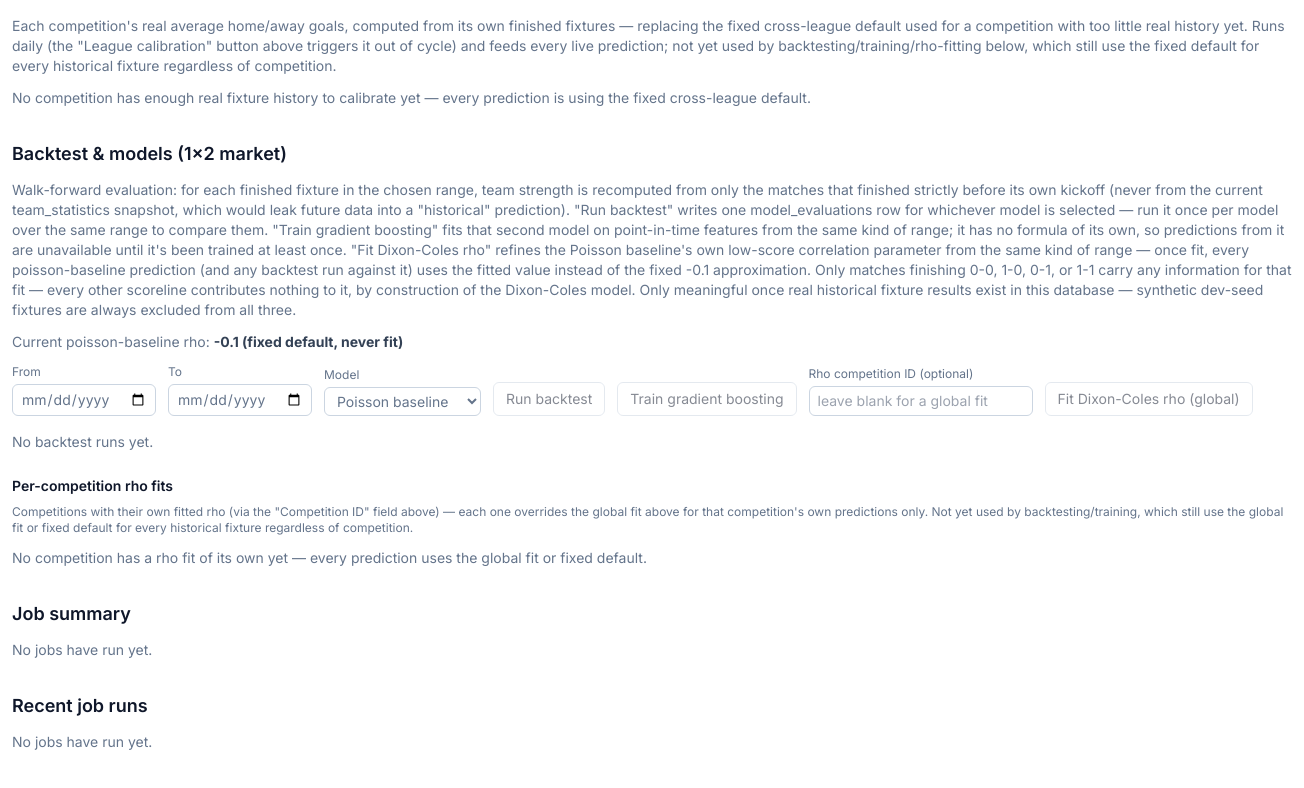
AdminDashboard › shows an error message when training fails (e.g. too few qualifying fixtures in range)
(page scrolled)
Expected: the button "Train gradient boosting" is shown, [617, 382, 796, 416]
Type "2024-01-01" into the date field labelled "From" at (84, 400), box [12, 384, 156, 416]
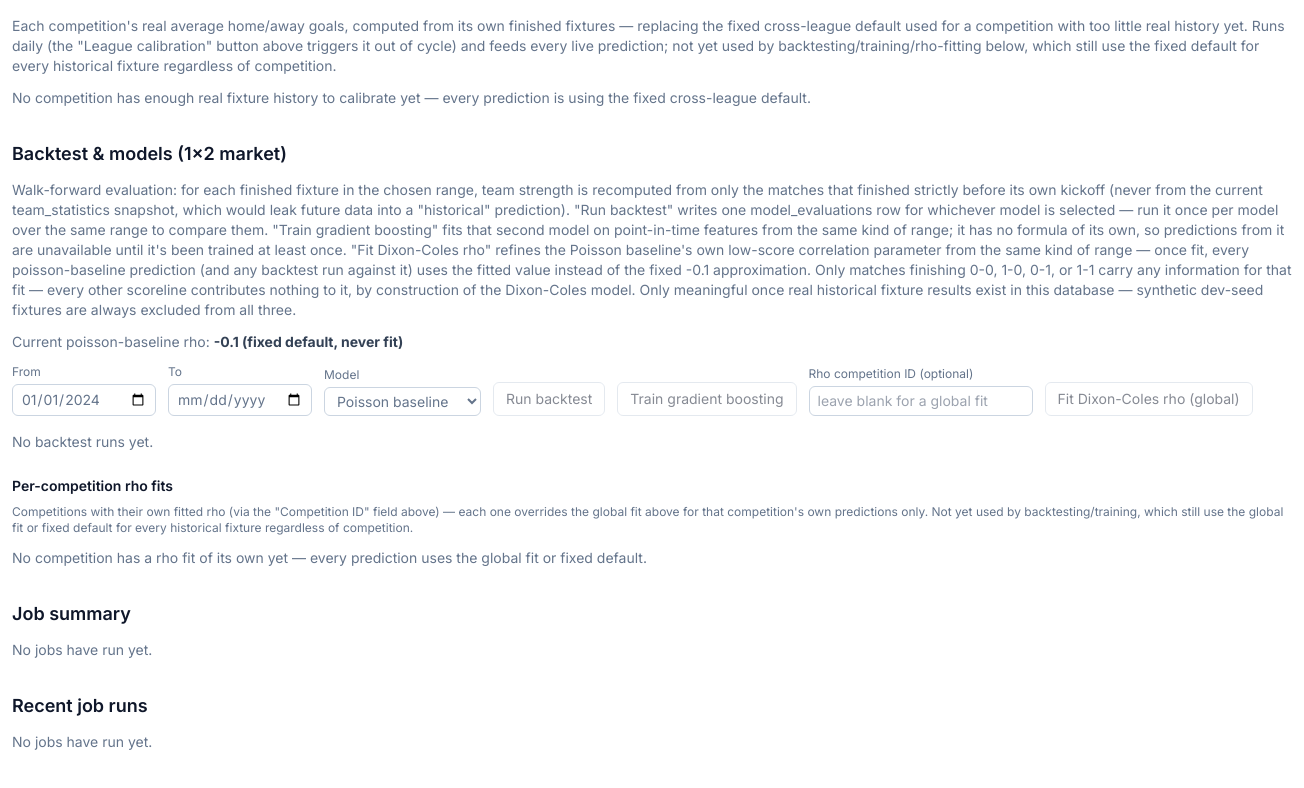
Type "2024-01-31" into the date field labelled "To" at (240, 400), box [168, 384, 312, 416]
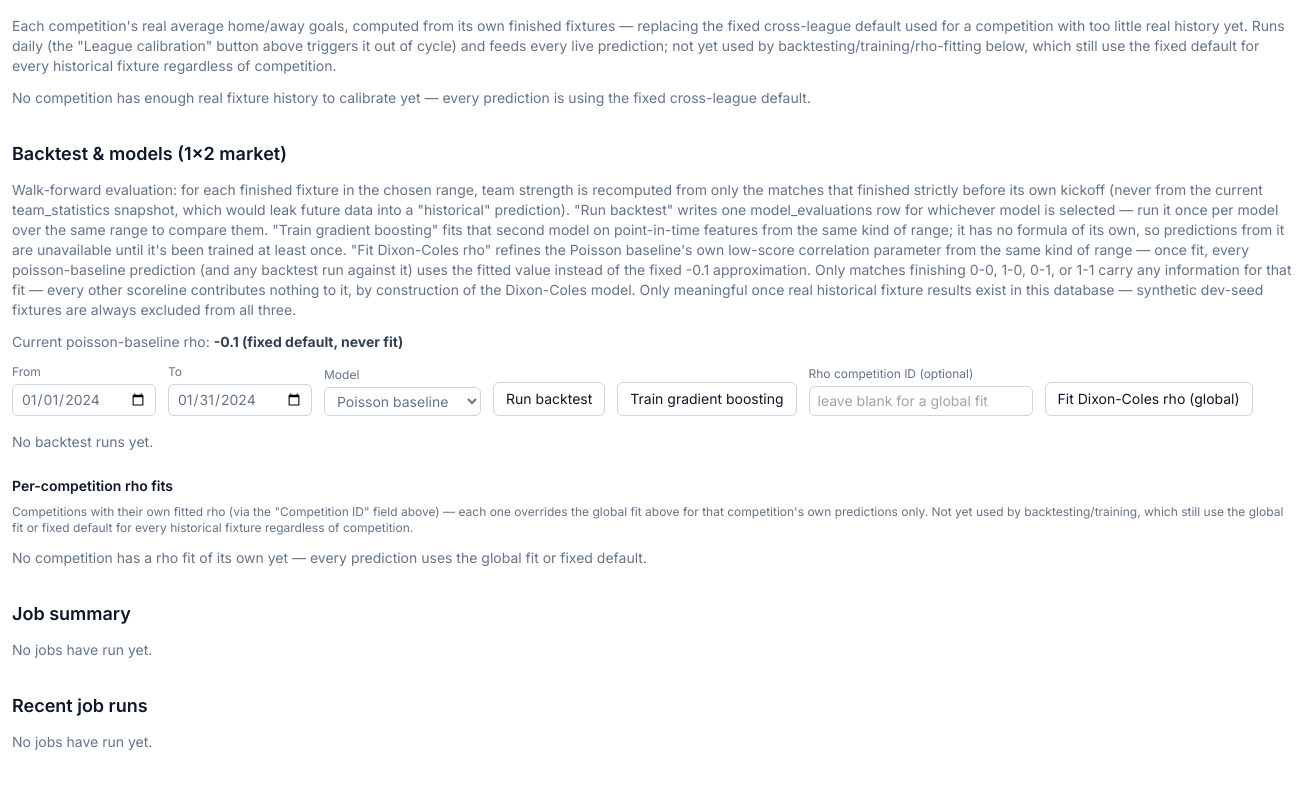
Click the button "Train gradient boosting" at (707, 399), box [617, 382, 796, 416]
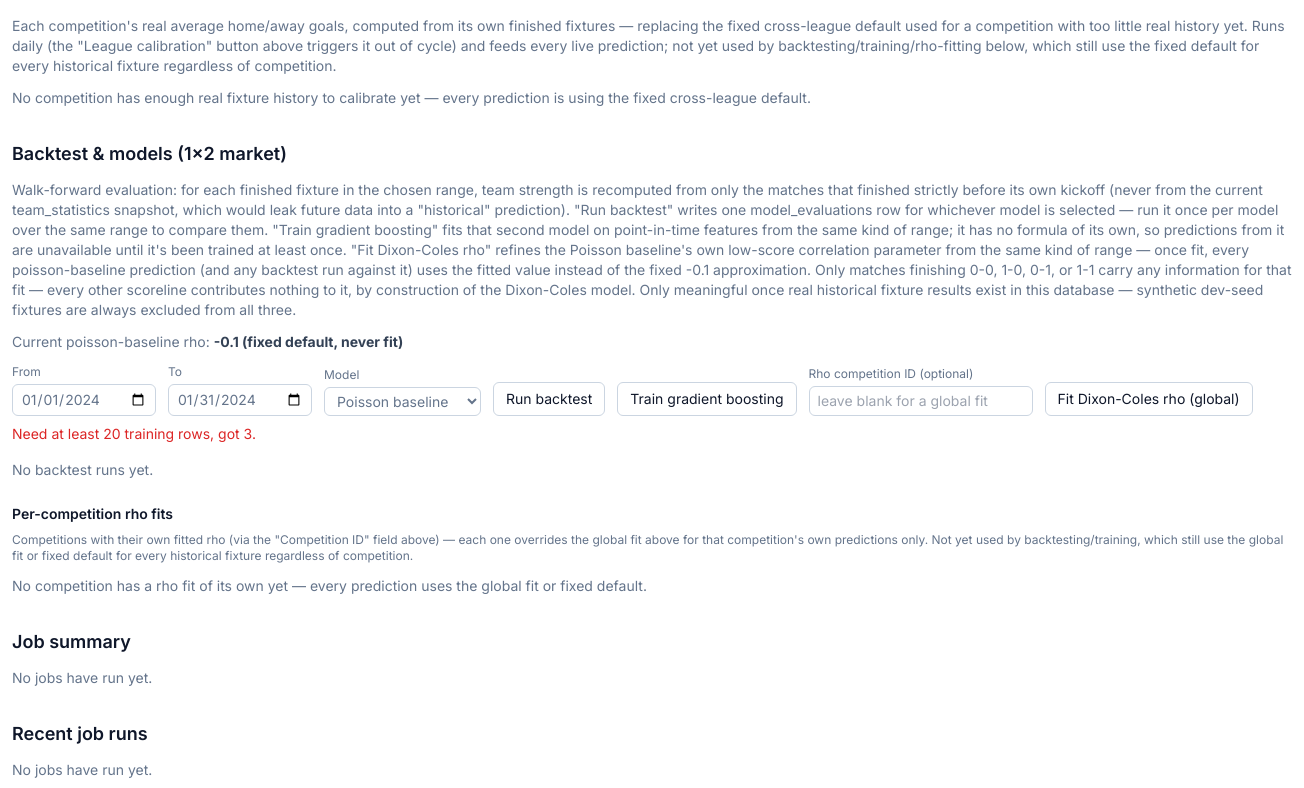
Expected: the text "Need at least 20 training rows, got 3." is shown, [12, 425, 256, 442]
